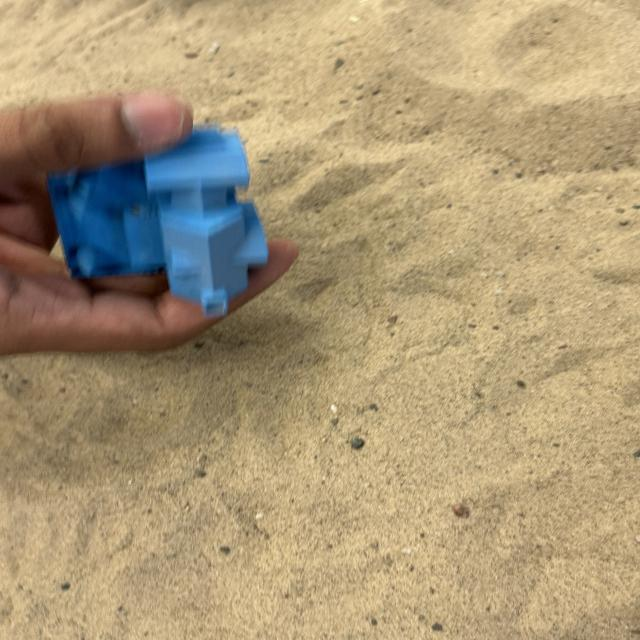house: (44, 122, 270, 319)
